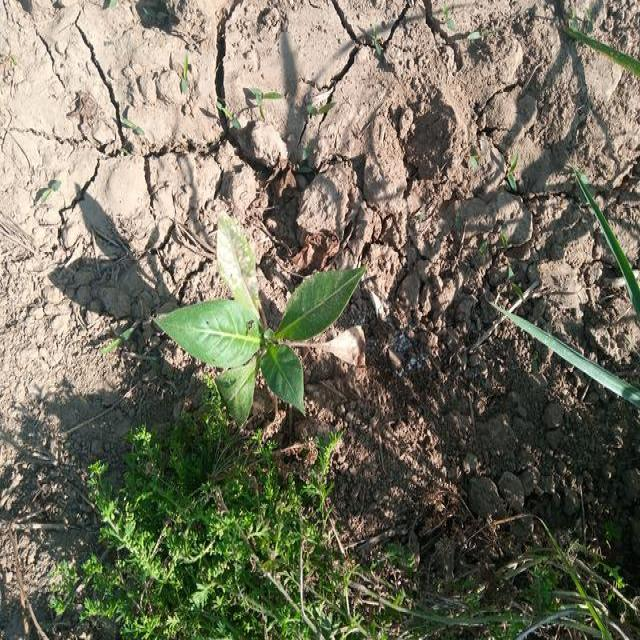crop: (170, 224, 362, 411)
